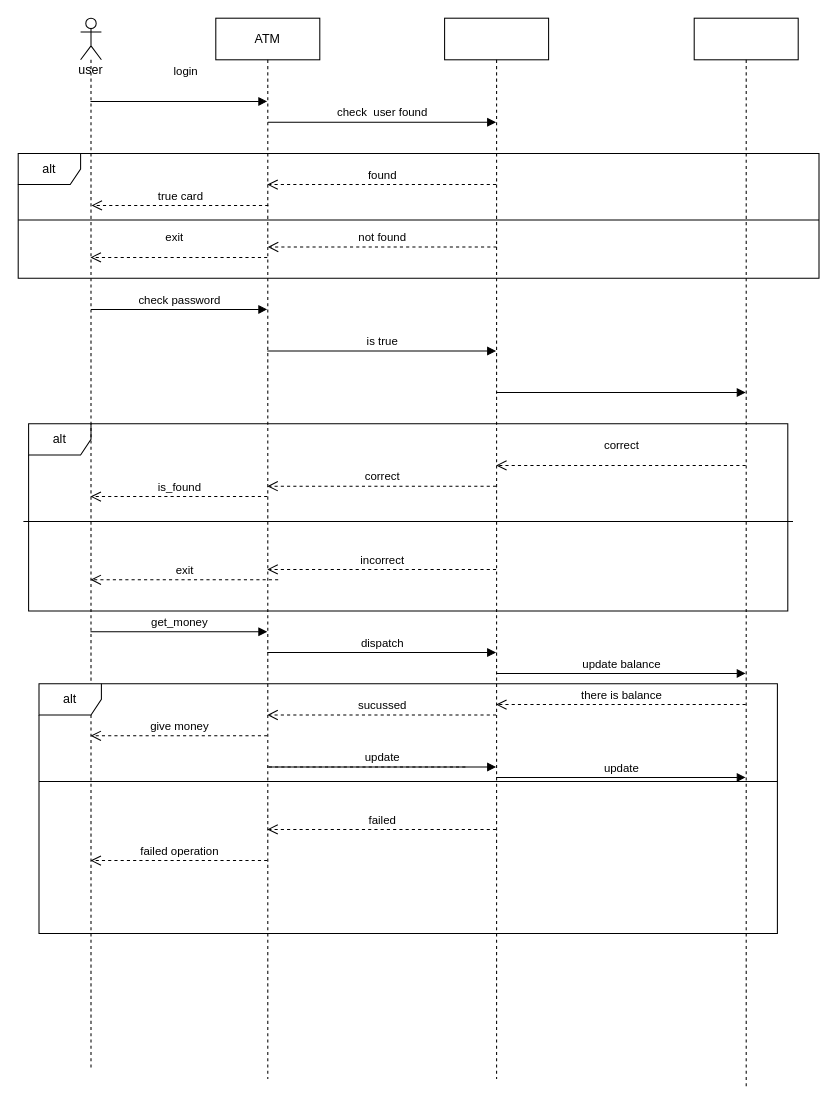
The diagram is 837 pixels wide and 1108 high, and some of its shapes have lost their labels. The shapes that lost their labels are listed below. From the top down, each one's box as (x1, y1, x2, y2) in pixels, then its label:
(444, 17, 549, 1079): bank server
(693, 17, 798, 1089): bank account
